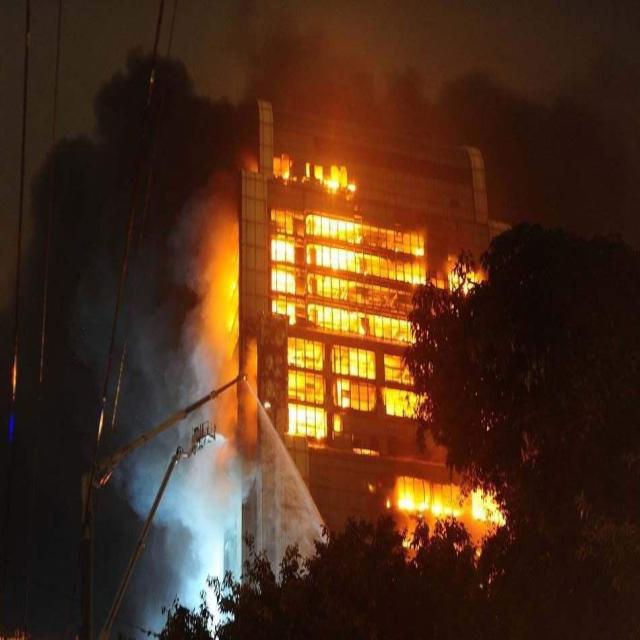fire: (265, 190, 437, 446), (184, 174, 240, 429), (380, 462, 510, 540), (269, 148, 353, 190)
